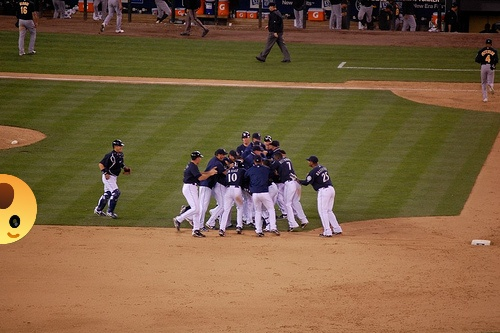wow: (0, 174, 37, 244)
